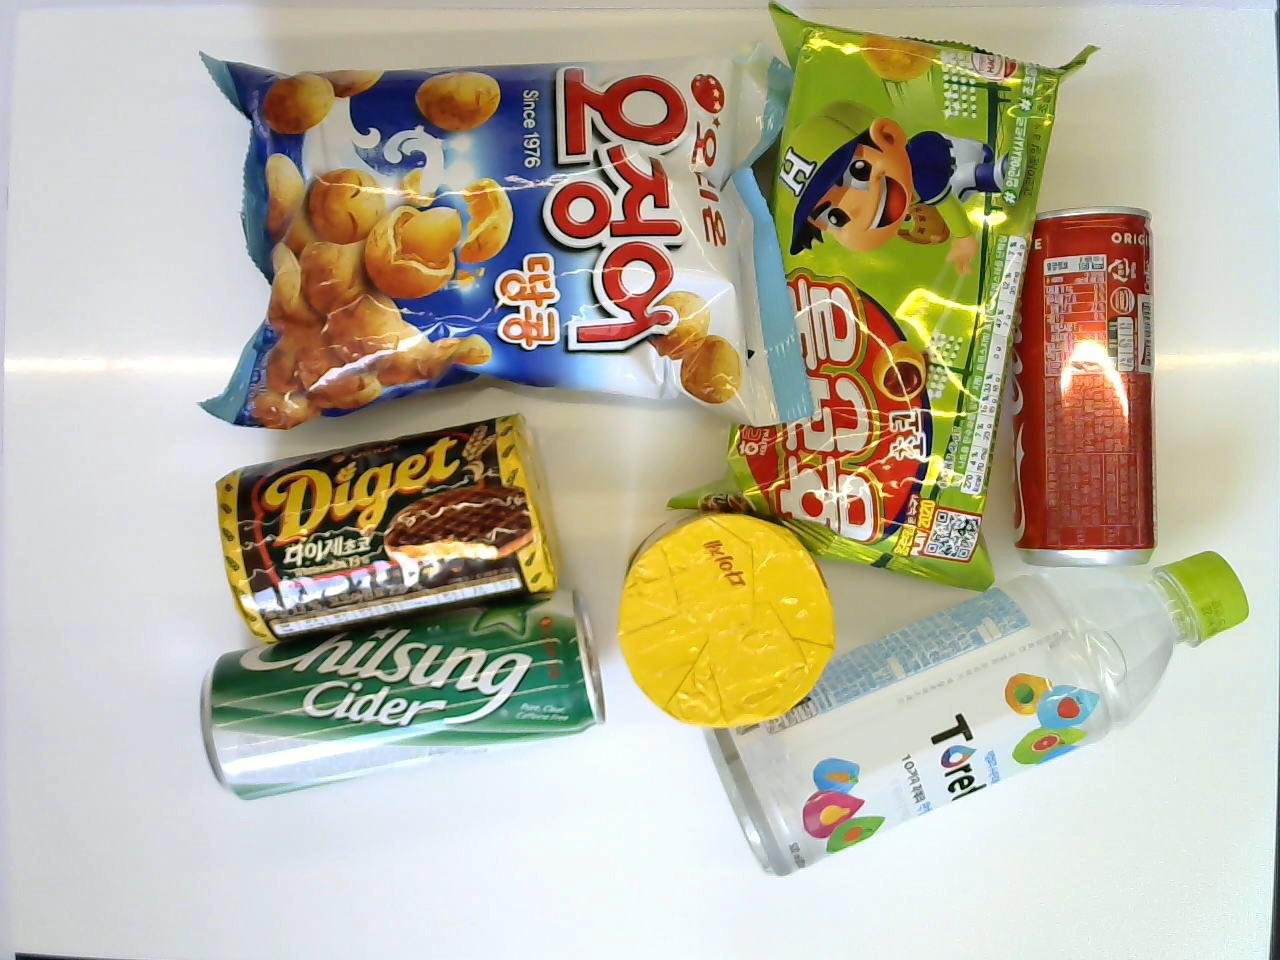cidar: (200, 585, 607, 809)
coke: (1011, 208, 1159, 563)
diget_choco: (215, 401, 559, 645)
diget_ori: (621, 504, 838, 730)
homerunball: (683, 5, 1080, 594)
squid_peanut: (198, 50, 812, 427)
toreta: (695, 550, 1251, 881)
